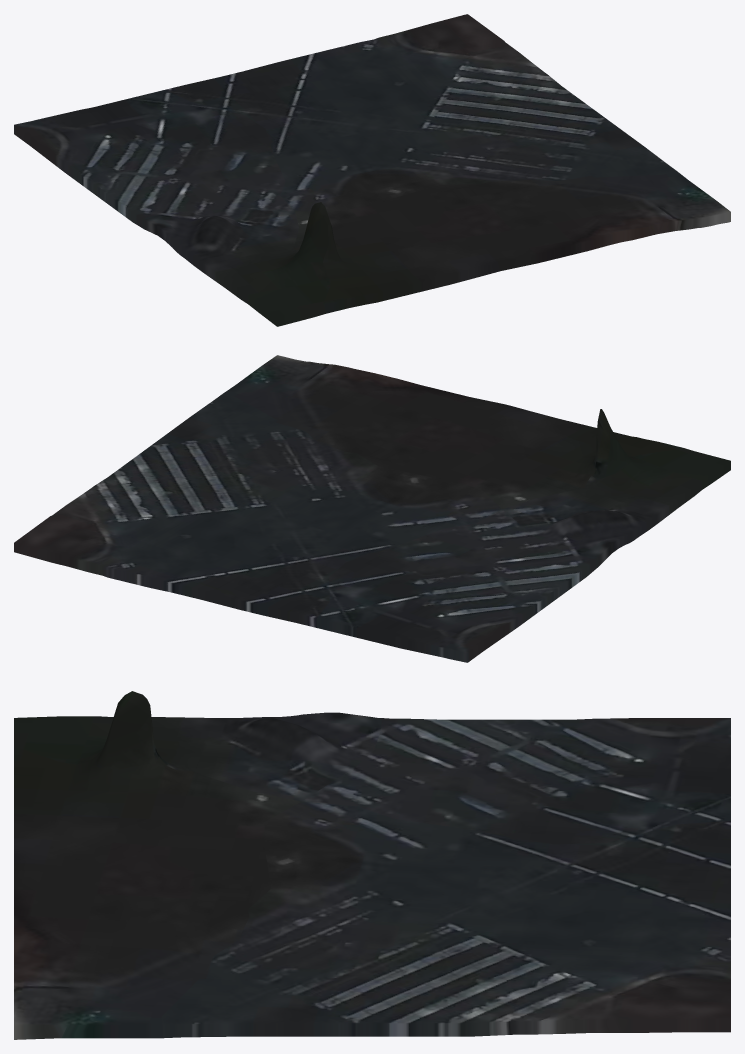
The model's file is z20-167777-405234-h0-yup-uvflip-v3-world.glb.
3 renders of one model, top to bottom at view 1: azimuth 30°, elevation 25°; view 2: azimuth 150°, elevation 25°; view 3: azimuth 270°, elevation 25°, orthographic. The views are drawn at different scales.
Size of the model in its own units: 30.16 by 4.92 by 30.32.
1 material, 1 textured.
